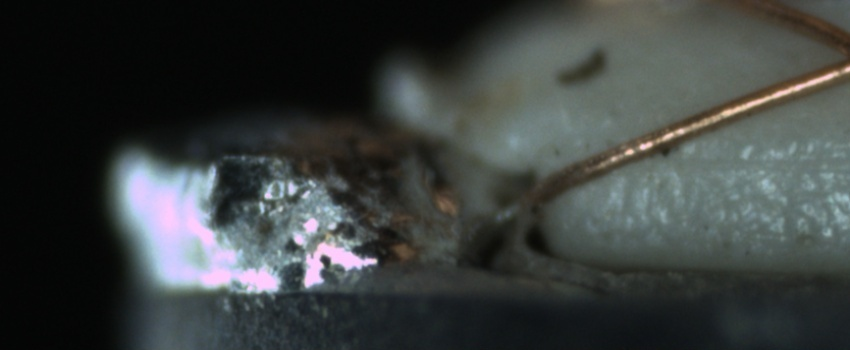DL: (665, 127, 850, 190)
